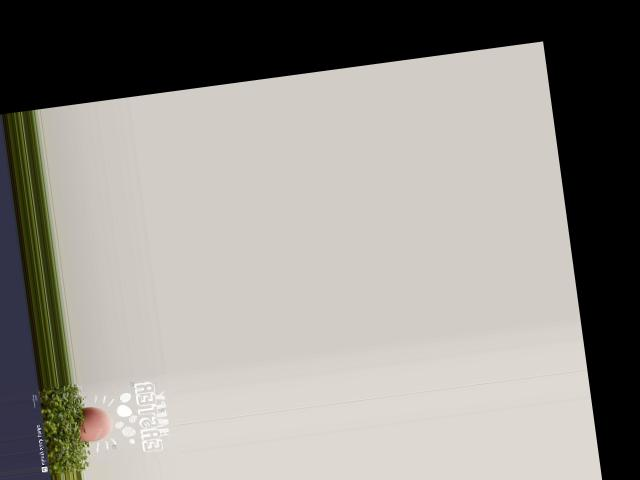egg: (75, 403, 114, 442)
